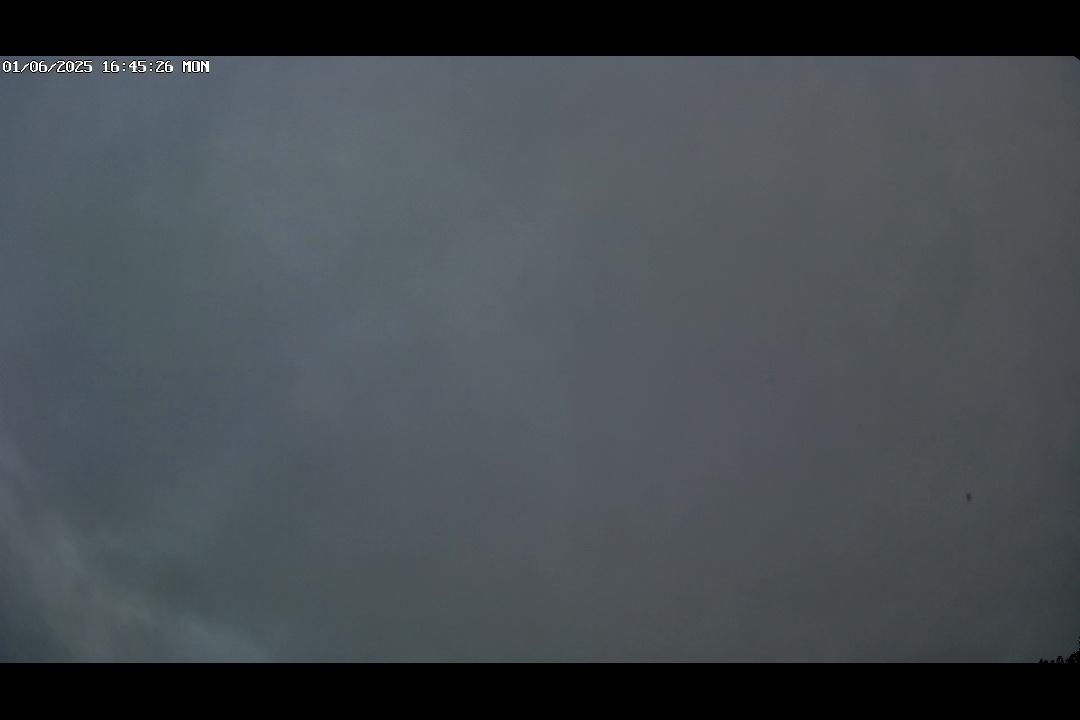Plane: (953, 482, 986, 512)
